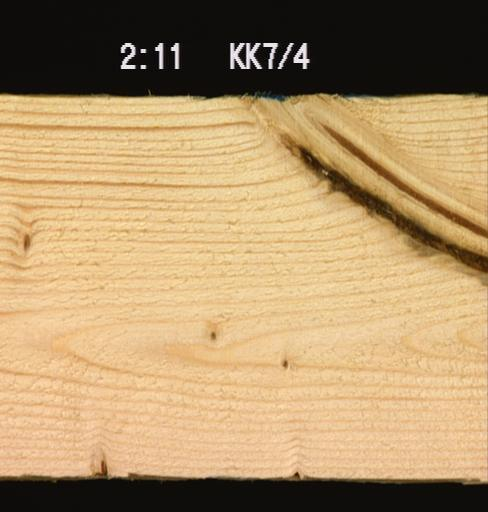edge_knot: (90, 445, 120, 479), (283, 465, 304, 478)
small_knot: (18, 224, 32, 256), (204, 324, 220, 346), (277, 355, 292, 372)
